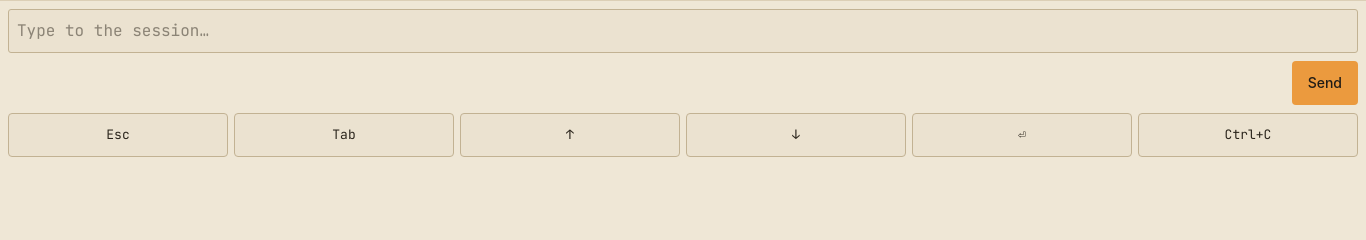
Test case: TerminalKeys — the offline queue (WP-13) › a message sent after the session ended is a draft at once, never "will send"
Step 1. Type "too late" into the text box labelled "Type to the session" → {"x": 683, "y": 31}, box x1=8 y1=9 x2=1358 y2=53
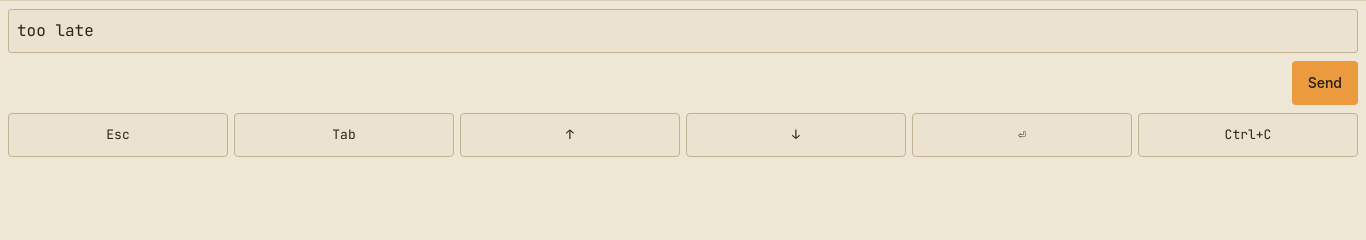
Step 2. Click the button "Send" → {"x": 1325, "y": 83}, box x1=1292 y1=61 x2=1358 y2=105
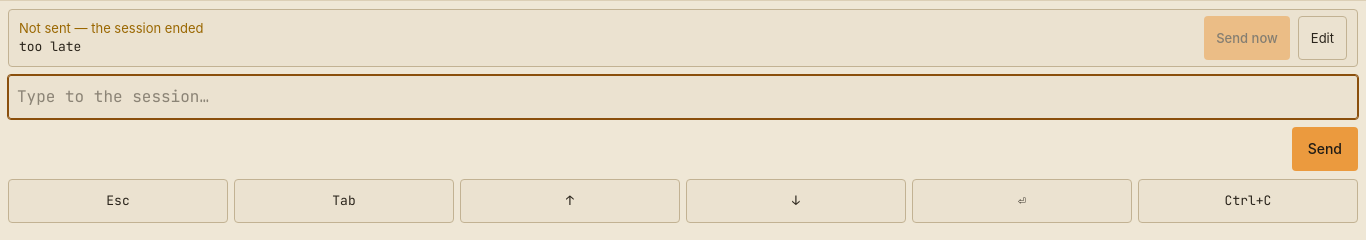
Now the text "Not sent — the session ended" is shown, box x1=19 y1=20 x2=204 y2=36
